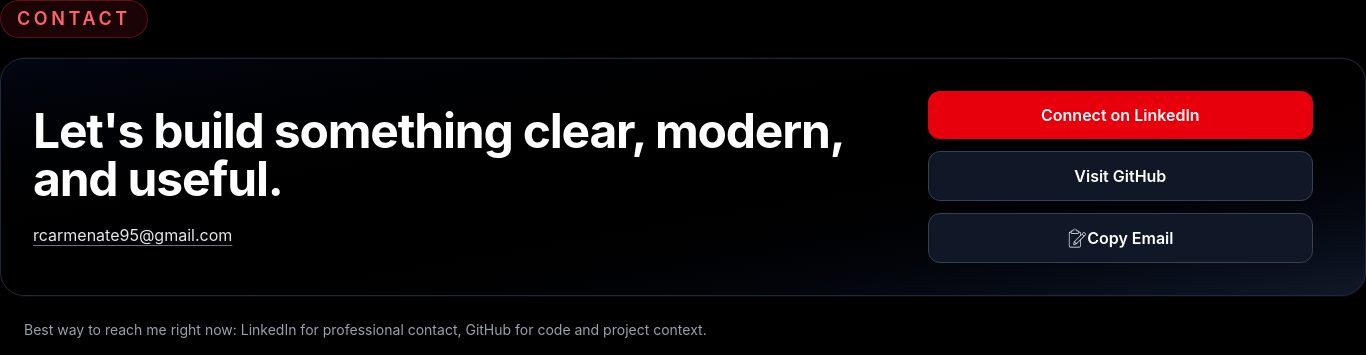
Test: Contact › shows feedback when copying the email fails
Click the button with aria-label "copy email to clipboard": (1120, 238) [928,213,1313,263]
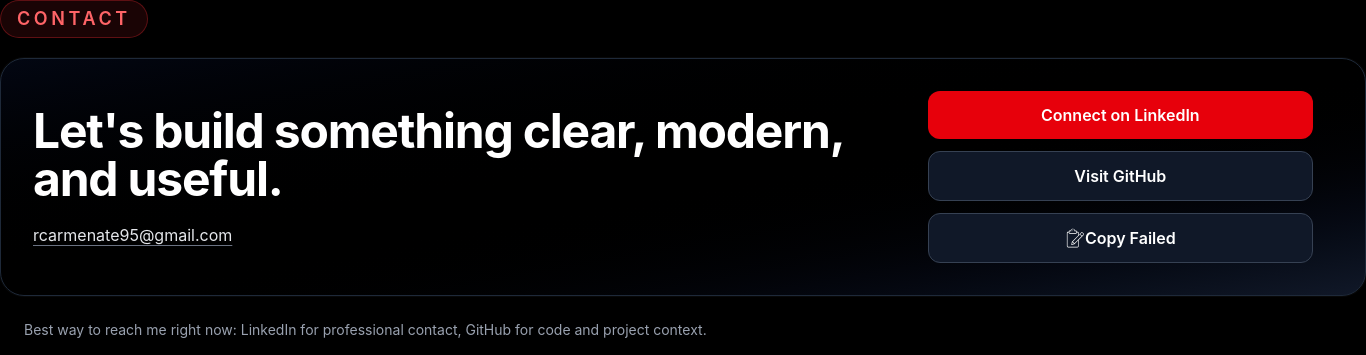
Expected: the button "Copy Failed" is shown, [928,213,1313,263]
